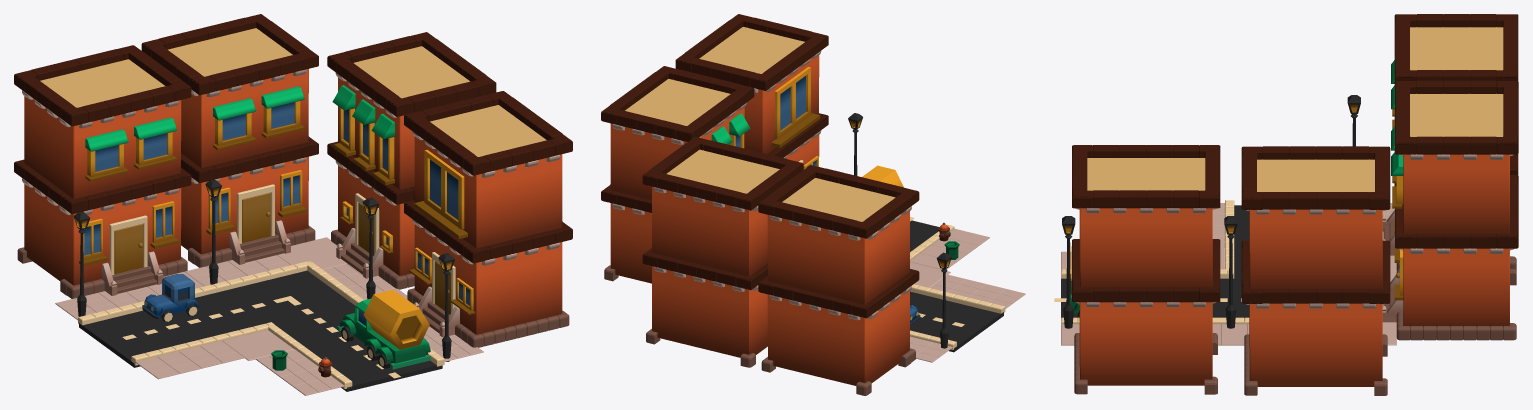
The model's file is StreetScene.fbx.
The picture shows the model from 3 angles, left to right: view 1: azimuth 30°, elevation 25°; view 2: azimuth 150°, elevation 25°; view 3: azimuth 270°, elevation 25°; orthographic projection. The views are drawn at different scales.
Visible parts, largest first — view 1: streetview; view 2: streetview; view 3: streetview.
Boxes of the visible parts, x1,y1,x2,y2 form: streetview: (14,14,572,395); streetview: (601,14,1025,395); streetview: (1054,14,1518,395).
Bounding box in the file's own units: 97.6 × 48.35 × 99.38.
